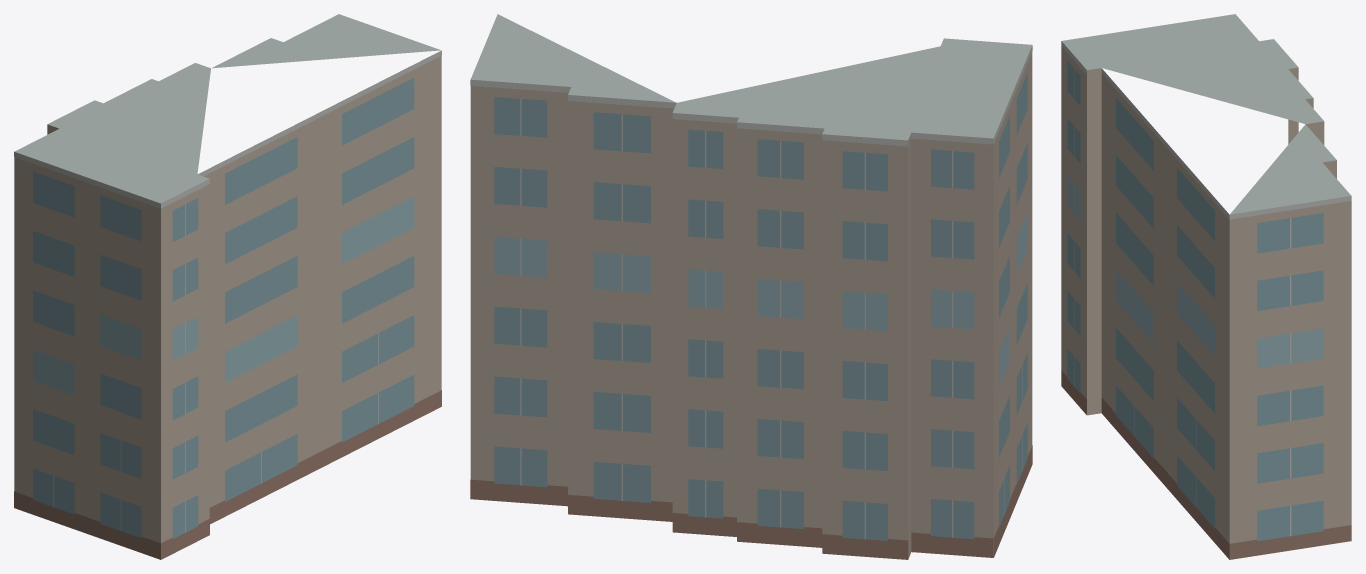
File: survey-upis-32662338.glb
3 views of the same model, side by side, from view 1: azimuth 30°, elevation 25°; view 2: azimuth 150°, elevation 25°; view 3: azimuth 270°, elevation 25° (orthographic). The views are drawn at different scales.
Parts seen in each view (by area): view 1: survey-upis-32662338.tmp; view 2: survey-upis-32662338.tmp; view 3: survey-upis-32662338.tmp.
Part boxes in pixels (x1,y1,x2,y2): survey-upis-32662338.tmp: (14, 14, 441, 559); survey-upis-32662338.tmp: (470, 14, 1032, 559); survey-upis-32662338.tmp: (1061, 14, 1351, 559).
Bounding box in the file's own units: 20.95 × 16.8 × 12.81.
